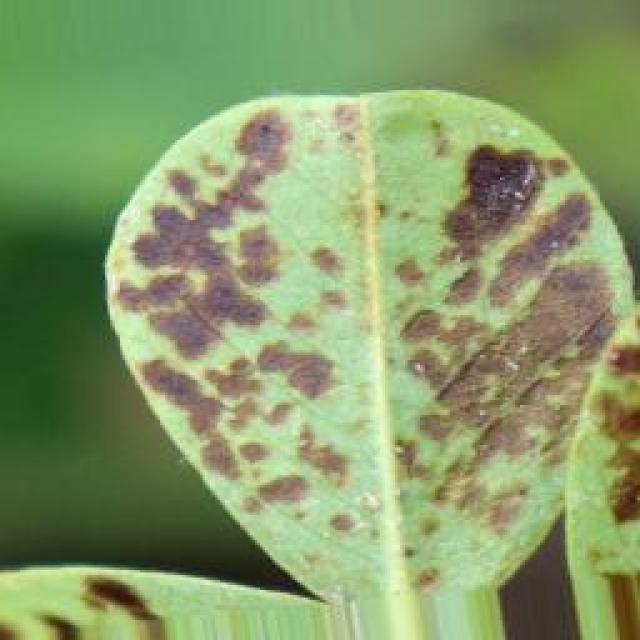Whitefly: (112, 59, 640, 623)
